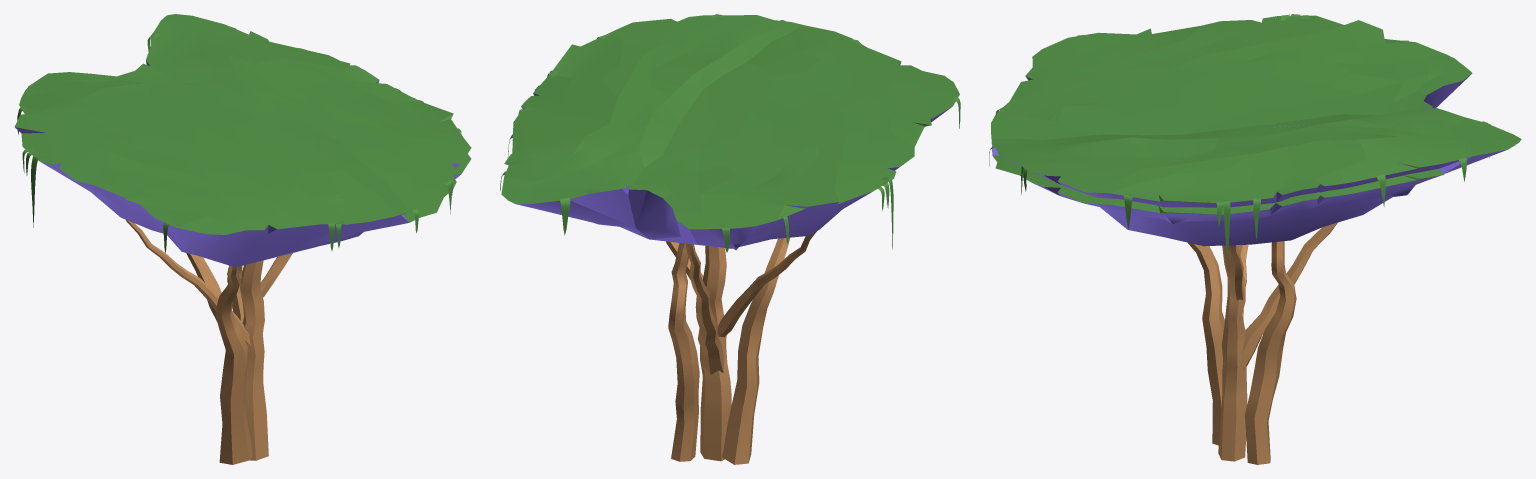
File: tree_C_canopy_B_solo.fbx
3 views of the same model, side by side, from view 1: azimuth 30°, elevation 25°; view 2: azimuth 150°, elevation 25°; view 3: azimuth 270°, elevation 25° (orthographic). The views are drawn at different scales.
Parts seen in each view (by area): view 1: tree_C_canopy_B_leveled, tree_C_canopy_B, tree_C_canopy_B_trunks_C, tree_C_canopy_B_trunks_A, tree_C_canopy_B_trunks_F, tree_C_canopy_B_trunks_D, tree_C_canopy_B_trunks_L; view 2: tree_C_canopy_B_leveled, tree_C_canopy_B, tree_C_canopy_B_trunks_C, tree_C_canopy_B_trunks_B, tree_C_canopy_B_trunks_A, tree_C_canopy_B_trunks_D, tree_C_canopy_B_trunks_F; view 3: tree_C_canopy_B_leveled, tree_C_canopy_B, tree_C_canopy_B_trunks_B, tree_C_canopy_B_trunks_A, tree_C_canopy_B_trunks_C, tree_C_canopy_B_trunks_D, tree_C_canopy_B_trunks_L.
Boxes of the visible parts, bbox=[...] form: tree_C_canopy_B_leveled: bbox=[14, 14, 471, 267]; tree_C_canopy_B: bbox=[151, 16, 471, 238]; tree_C_canopy_B_trunks_C: bbox=[215, 265, 252, 464]; tree_C_canopy_B_trunks_A: bbox=[240, 260, 268, 460]; tree_C_canopy_B_trunks_F: bbox=[126, 220, 250, 345]; tree_C_canopy_B_trunks_D: bbox=[186, 253, 258, 373]; tree_C_canopy_B_trunks_L: bbox=[260, 253, 292, 297]; tree_C_canopy_B_leveled: bbox=[502, 25, 959, 249]; tree_C_canopy_B: bbox=[501, 15, 820, 203]; tree_C_canopy_B_trunks_C: bbox=[722, 237, 789, 464]; tree_C_canopy_B_trunks_B: bbox=[668, 243, 699, 461]; tree_C_canopy_B_trunks_A: bbox=[700, 246, 731, 461]; tree_C_canopy_B_trunks_D: bbox=[686, 243, 723, 374]; tree_C_canopy_B_trunks_F: bbox=[717, 231, 816, 337]; tree_C_canopy_B_leveled: bbox=[991, 15, 1521, 246]; tree_C_canopy_B: bbox=[991, 105, 1513, 207]; tree_C_canopy_B_trunks_B: bbox=[1245, 241, 1296, 464]; tree_C_canopy_B_trunks_A: bbox=[1218, 245, 1247, 461]; tree_C_canopy_B_trunks_C: bbox=[1188, 242, 1224, 445]; tree_C_canopy_B_trunks_D: bbox=[1224, 222, 1337, 370]; tree_C_canopy_B_trunks_L: bbox=[1228, 245, 1243, 300].
Size of the model in its own units: 593 by 518 by 718.
